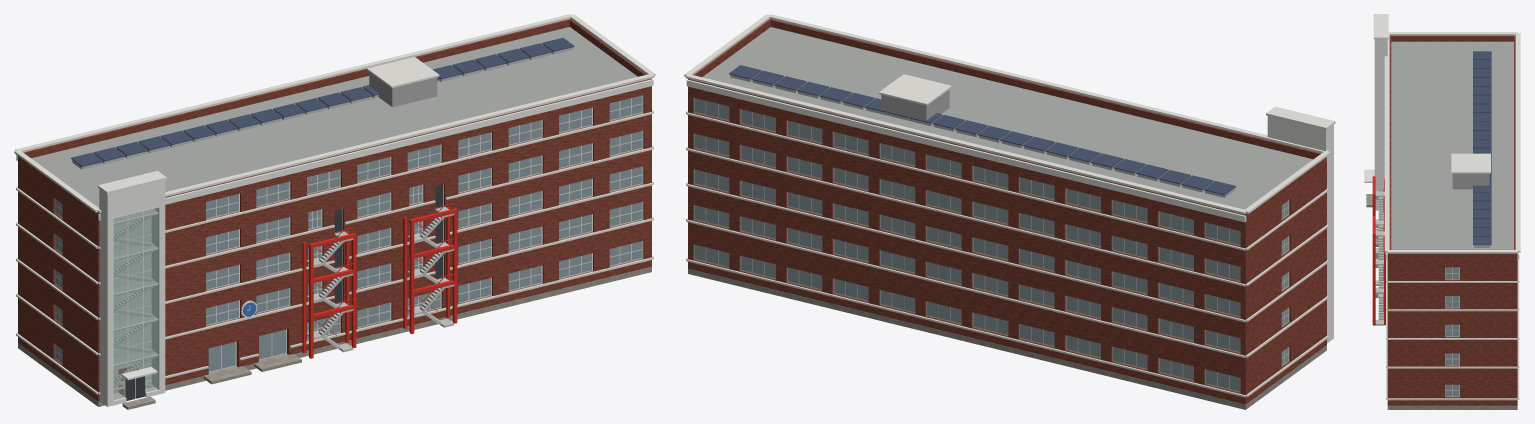
3 views of the same model, side by side, from view 1: azimuth 30°, elevation 25°; view 2: azimuth 150°, elevation 25°; view 3: azimuth 270°, elevation 25° (orthographic). The views are drawn at different scales.
Visible parts, largest first — view 1: main__brick, main__roof, main__glass, main__white, main__sillband, main__coping, main__frame, main__towerglass, main__red, main__solar, main__stairgrey, main__towerinner (+4 smaller); view 2: main__brick, main__sideglass, main__roof, main__sillband, main__coping, main__white, main__frame, main__solar, main__stone, main__steel; view 3: main__roof, main__brick, main__coping, main__solar, main__sillband, main__white, main__stairgrey, main__red, main__sideglass, main__stone, main__frame.
Part boxes in pixels (box(x1,y1,x2,y2)): main__brick: box(18, 19, 651, 401); main__roof: box(31, 27, 637, 207); main__glass: box(206, 95, 642, 371); main__white: box(16, 79, 653, 406); main__sillband: box(16, 110, 653, 394); main__coping: box(14, 14, 655, 212); main__frame: box(55, 95, 643, 398); main__towerglass: box(113, 208, 158, 399); main__red: box(302, 203, 457, 358); main__solar: box(71, 37, 574, 166); main__stairgrey: box(113, 206, 454, 388); main__towerinner: box(113, 217, 151, 393); main__brick: box(688, 19, 1326, 404); main__sideglass: box(694, 98, 1288, 391); main__roof: box(702, 27, 1312, 209); main__sillband: box(686, 111, 1328, 397); main__coping: box(684, 14, 1335, 214); main__white: box(686, 79, 1333, 343); main__frame: box(694, 98, 1289, 392); main__solar: box(729, 65, 1236, 195); main__stone: box(688, 268, 1326, 409); main__steel: box(730, 72, 1234, 197); main__roof: box(1391, 41, 1513, 249); main__brick: box(1387, 35, 1517, 405); main__coping: box(1373, 14, 1520, 253); main__solar: box(1473, 51, 1491, 245); main__sillband: box(1386, 259, 1519, 400); main__white: box(1364, 39, 1519, 259); main__stairgrey: box(1373, 190, 1384, 325); main__red: box(1372, 176, 1385, 325); main__sideglass: box(1446, 267, 1459, 396); main__stone: box(1387, 405, 1517, 409); main__frame: box(1445, 267, 1459, 396).
Size of the model in its own units: 56.14 by 21.2 by 16.82.
Materials: 18 (2 with a texture image).
